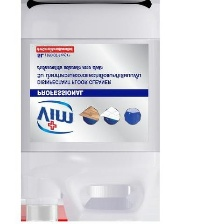cleaning_solution: (18, 1, 161, 223)
